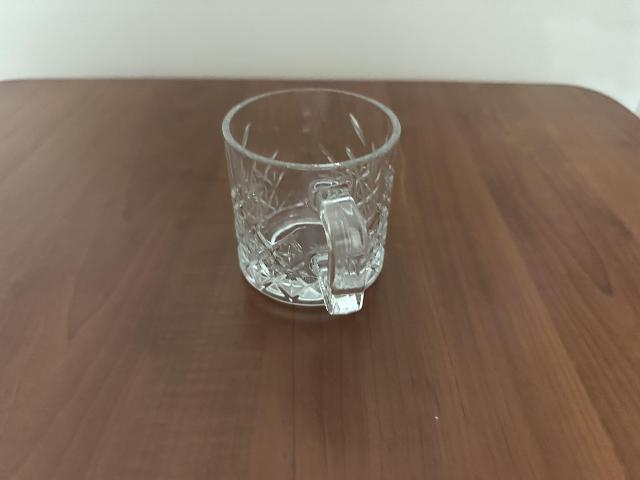Cam: (224, 83, 400, 317)
